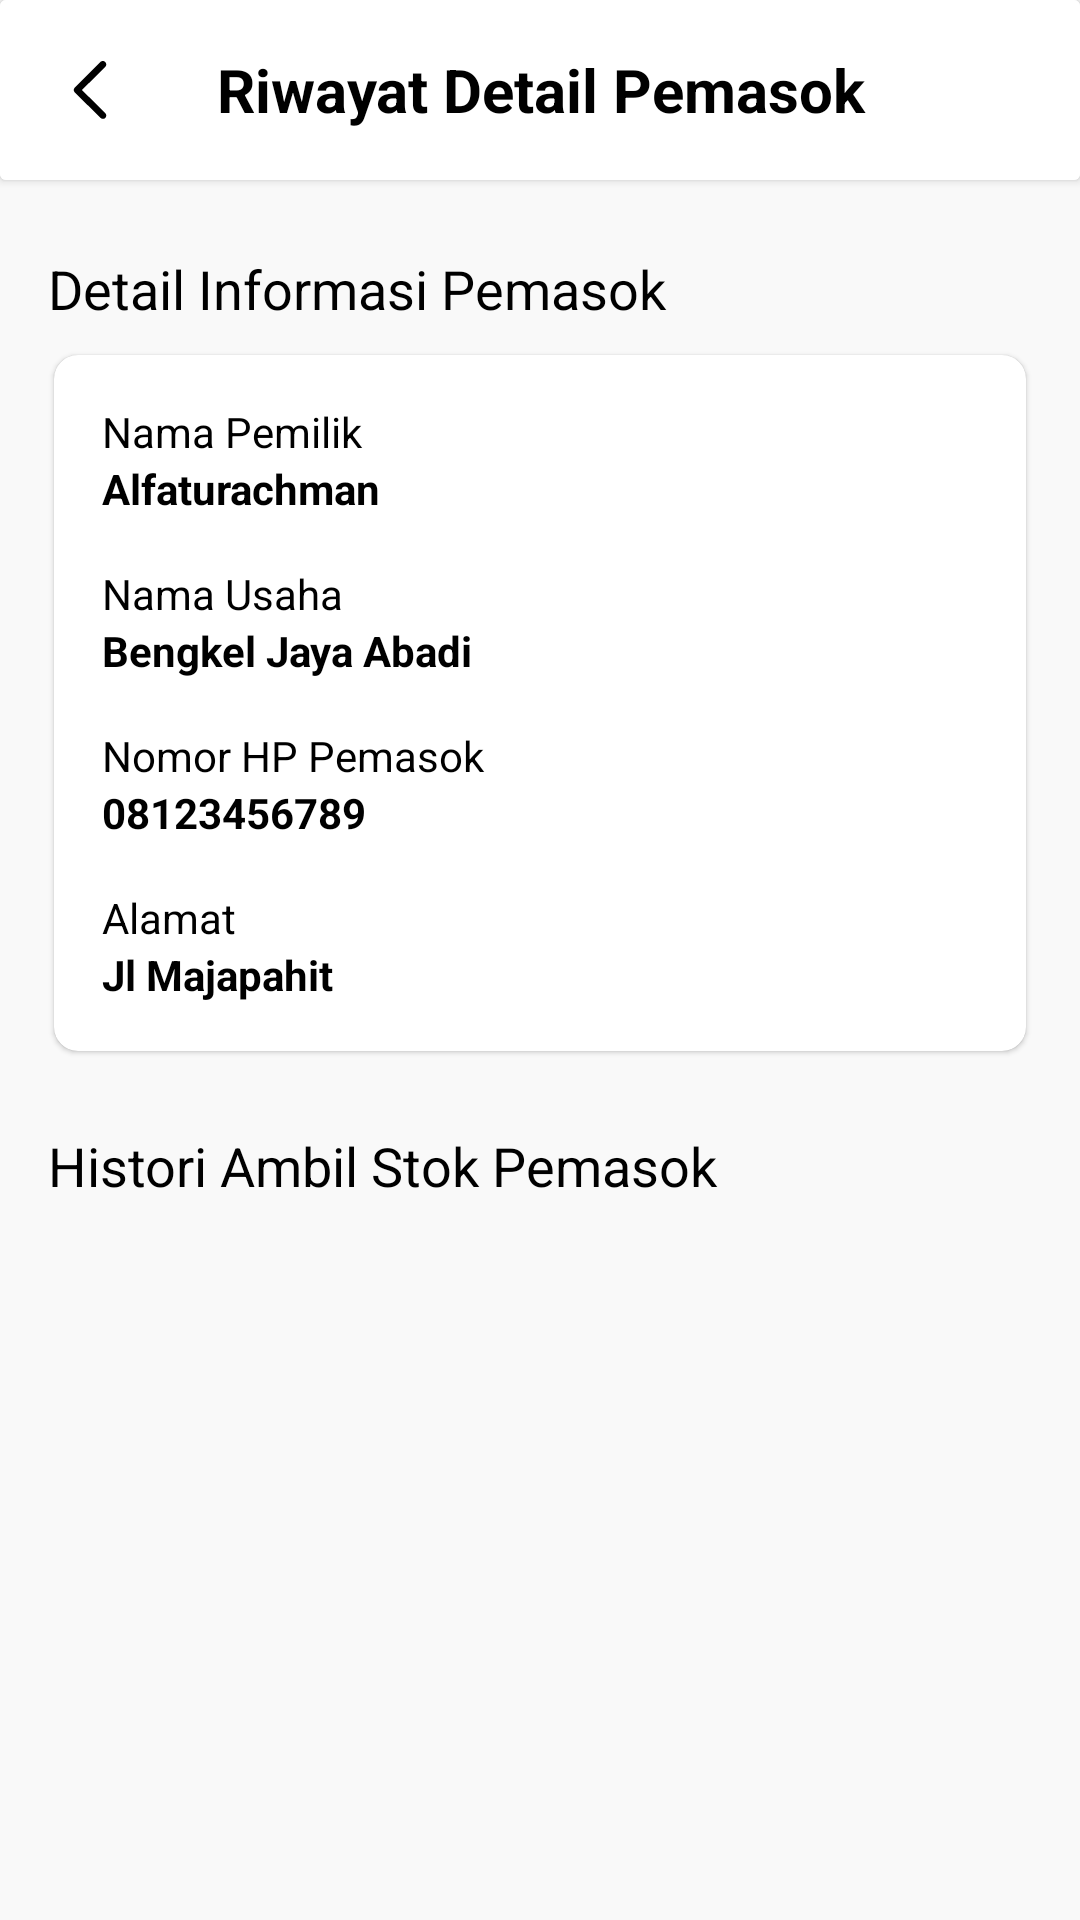

Screen size 1080x1920. Icon name, then its center in pixels as point (x, y):
back: point (90, 90)
